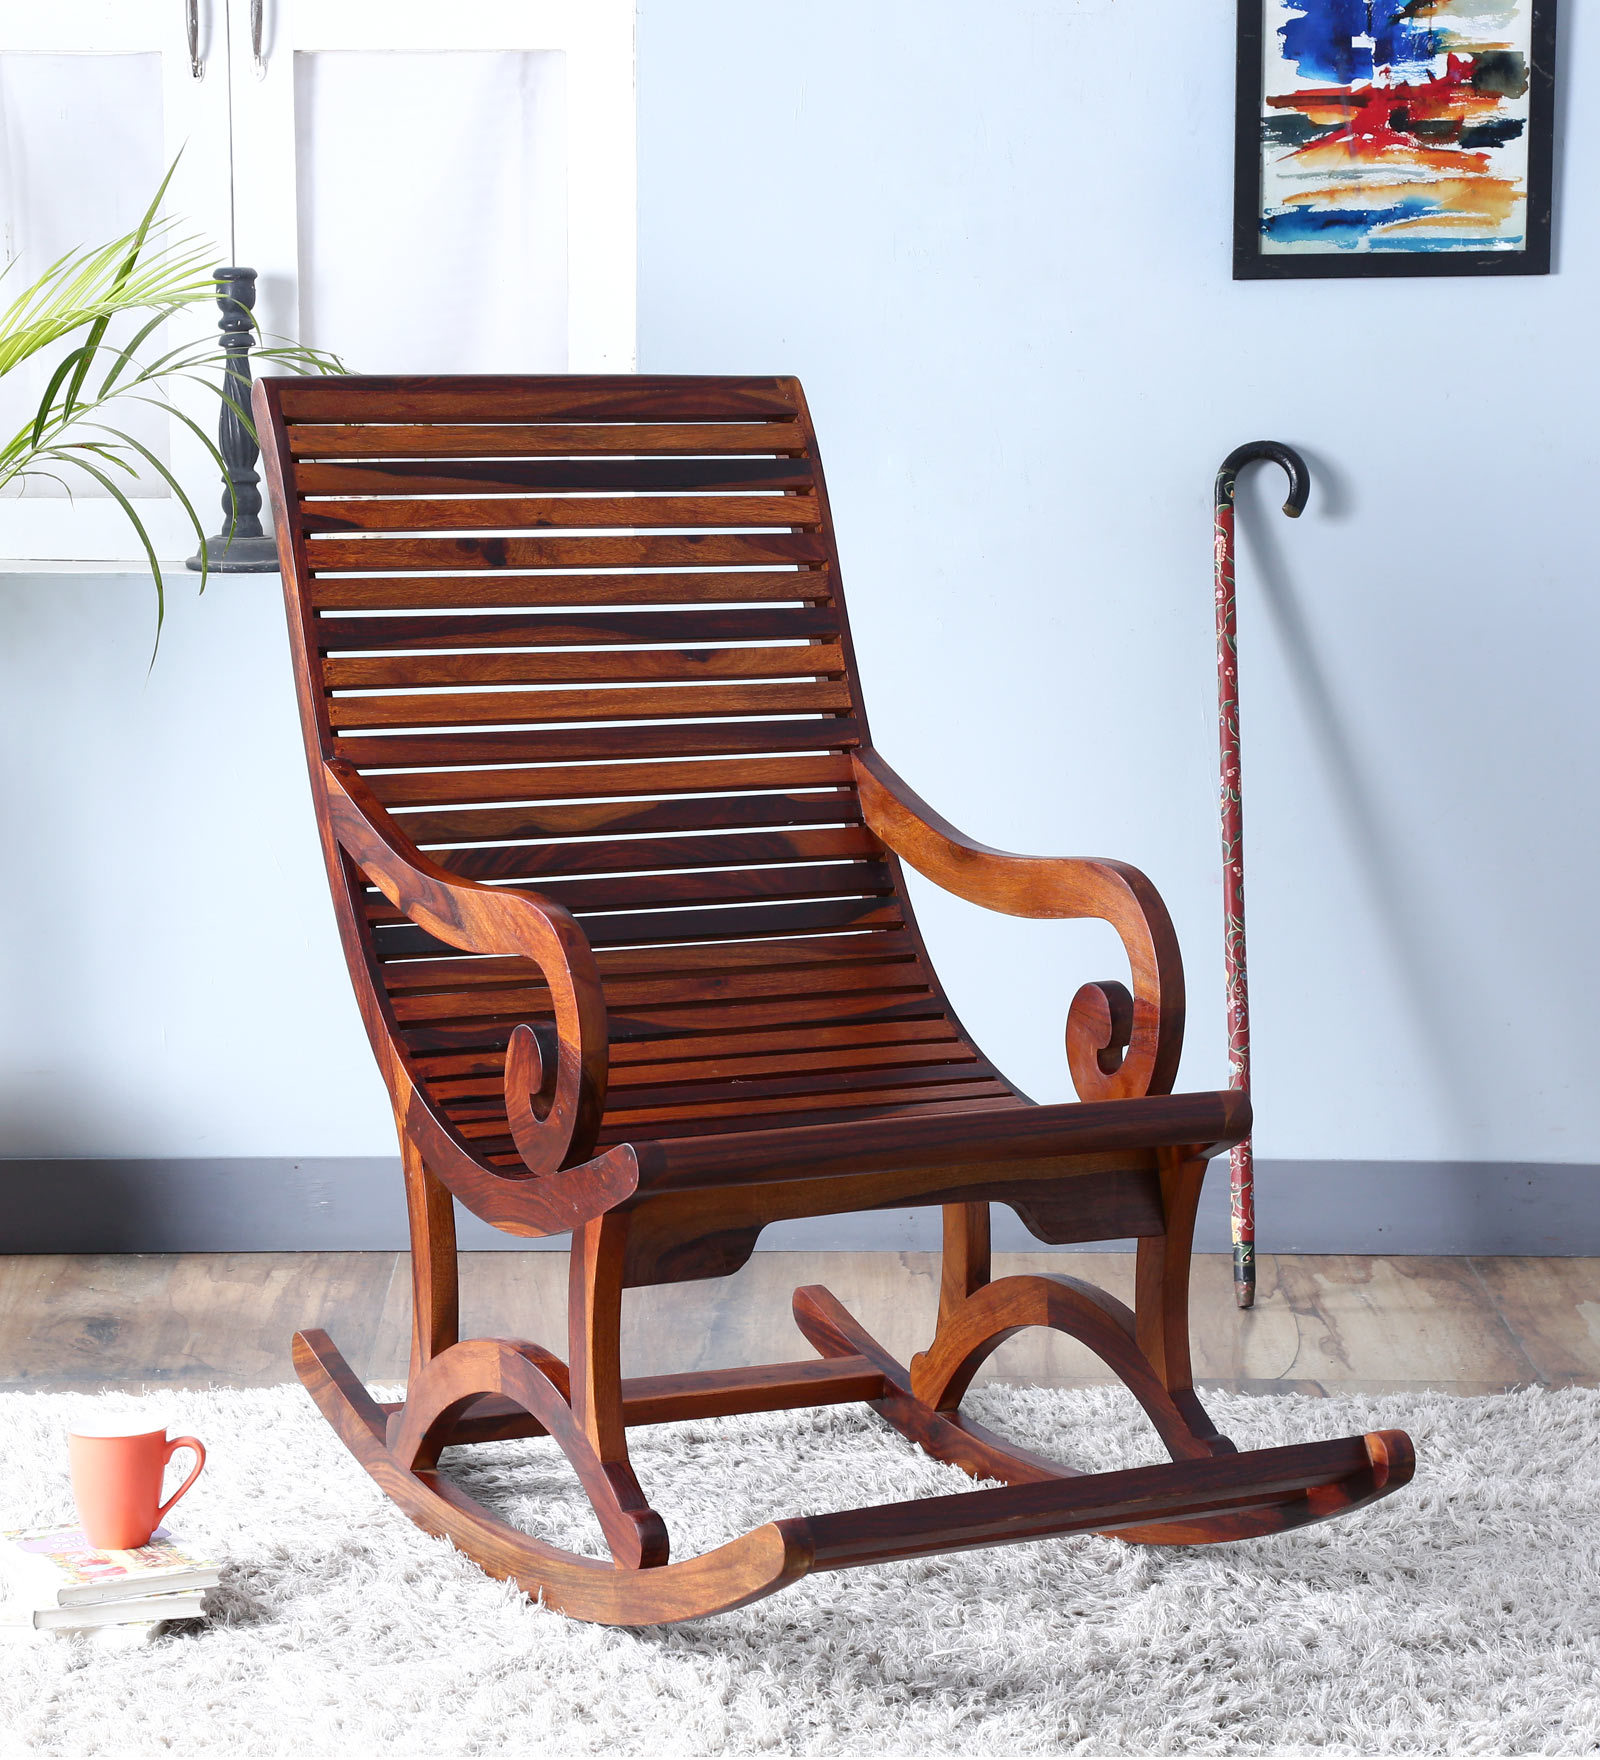Wellesley Rocking Chair in Honey Oak Finish by Amberville: (205, 320, 1448, 1650)
